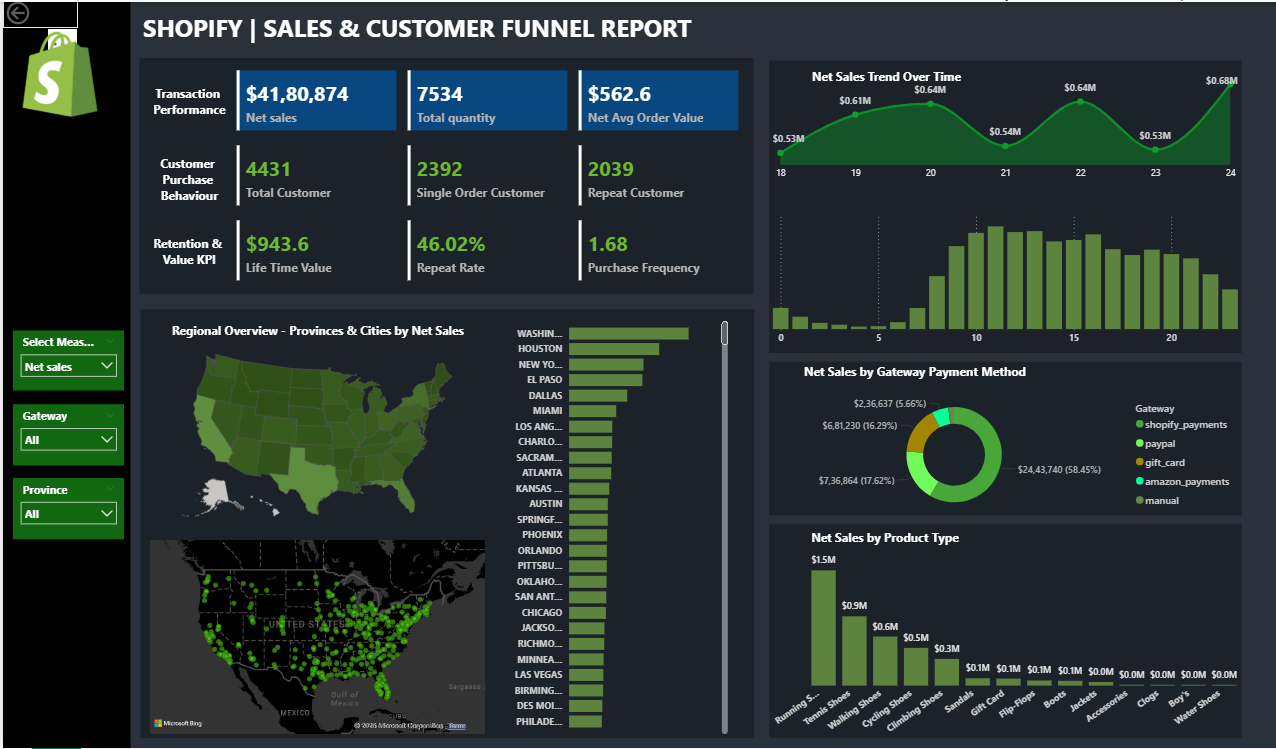

The dashboard page shown, as its layout file describes it:
{"tool":"powerbi","page":{"name":"Page 1","canvas":[1700,1000],"ordinal":0},"visuals":[{"type":"shape","box":[0,0,170,1000.3],"z":0},{"type":"textbox","box":[181,13.4,745.6,53.6],"z":1000},{"type":"shape","box":[181,80.4,819.4,315],"z":2000},{"type":"cardVisual","fields":{"Data":["shopify_sales.Net sales","shopify_sales.Total quantity","shopify_sales.Net Avg Order Value"]},"box":[306.6,92.2,680.3,90.5],"z":3000},{"type":"actionButton","box":[0,0,100,40],"z":4000},{"type":"card","fields":{"Values":["shopify_sales.Transaction perf"]},"box":[189.3,83.8,117.3,107.2],"z":5000},{"type":"cardVisual","fields":{"Data":["shopify_sales.Total Customer","shopify_sales.Single Order Customer","shopify_sales.Repeat Customer"]},"box":[306.6,191.9,680.3,90.5],"z":6000},{"type":"card","fields":{"Values":["shopify_sales.Customer Purchase Behaviour"]},"box":[189.3,184.3,117.3,107.2],"z":7000},{"type":"cardVisual","fields":{"Data":["shopify_sales.Life Time Value","shopify_sales.Repeat Rate","shopify_sales.Purchase Frequency"]},"box":[306.6,291.6,680.3,90.5],"z":8000},{"type":"card","fields":{"Values":["shopify_sales.Retention & Value KPI"]},"box":[189.3,283.2,117.3,107.2],"z":9000},{"type":"shape","box":[183.3,415,818.3,571.7],"z":10000},{"type":"shapeMap","fields":{"Value":["shopify_sales.Net sales"],"Category":["shopify_sales.Billing Address Province"]},"box":[191.7,458.3,455,250],"z":11000},{"type":"slicer","fields":{"Values":["Select Measure .Select Measure "]},"box":[13.3,443.3,148.3,80],"z":12000},{"type":"map","fields":{"Category":["shopify_sales.Location"]},"box":[191.7,718.3,455,268.3],"z":13000},{"type":"card","fields":{"Values":["shopify_sales.Title"]},"box":[175,418.3,490,53.3],"z":15000},{"type":"shape","box":[1021.7,83.3,630,390],"z":16000},{"type":"areaChart","fields":{"Y":["shopify_sales.Net sales"],"Category":["shopify_sales.Invoice Date.Variation.Date Hierarchy.Day"]},"box":[1021.7,91.7,630,160],"z":17000},{"type":"clusteredColumnChart","fields":{"Y":["shopify_sales.Net sales"],"Category":["shopify_sales.Hour"]},"box":[1021.7,276.7,630,195],"z":18000},{"type":"card","fields":{"Values":["shopify_sales.Trend Title"]},"box":[1021.7,80,313.3,53.3],"z":19000},{"type":"shape","box":[1021.7,485,630,205],"z":20000},{"type":"donutChart","fields":{"Y":["shopify_sales.Net sales"],"Category":["shopify_sales.Gateway"]},"box":[1021.7,523.3,628.3,171.7],"z":21000},{"type":"card","fields":{"Values":["shopify_sales.Gateway Title"]},"box":[1021.7,473.3,393.3,53.3],"z":22000},{"type":"shape","box":[1021.7,701.7,630,285],"z":23000},{"type":"columnChart","fields":{"Y":["shopify_sales.Net sales"],"Category":["shopify_sales.Product Type"]},"box":[1021.7,721.7,645,278.3],"z":24000},{"type":"card","fields":{"Values":["shopify_sales.Product Title"]},"box":[1021.7,695,313.3,53.3],"z":25000},{"type":"image","box":[13.3,40,125,123.3],"z":26000},{"type":"slicer","fields":{"Values":["shopify_sales.Gateway"]},"box":[13.3,540.8,148.3,81.7],"z":27000},{"type":"slicer","title":"Province","fields":{"Values":["shopify_sales.Billing Address Province"]},"box":[13.3,640,148.3,81.7],"z":28000},{"type":"clusteredBarChart","fields":{"Category":["shopify_sales (2).CITY"],"Y":["shopify_sales.Net sales"]},"box":[665,418.3,306.7,568.3],"z":28001}]}

Visuals, with their boxes in screenshot pixels (x1, y1, x2, y2), scaled from the page's 1700x1000 canvas onto the 1276x749 screenshot:
shape: select_region(0, 0, 128, 748)
textbox: select_region(136, 10, 695, 50)
shape: select_region(136, 60, 751, 296)
cardVisual - shopify_sales.Net sales x shopify_sales.Total quantity: select_region(230, 69, 741, 137)
actionButton: select_region(0, 0, 75, 30)
card - shopify_sales.Transaction perf: select_region(142, 63, 230, 143)
cardVisual - shopify_sales.Total Customer x shopify_sales.Single Order Customer: select_region(230, 144, 741, 212)
card - shopify_sales.Customer Purchase Behaviour: select_region(142, 138, 230, 218)
cardVisual - shopify_sales.Life Time Value x shopify_sales.Repeat Rate: select_region(230, 218, 741, 286)
card - shopify_sales.Retention & Value KPI: select_region(142, 212, 230, 292)
shape: select_region(138, 311, 752, 739)
shapeMap - shopify_sales.Net sales x shopify_sales.Billing Address Province: select_region(144, 343, 485, 531)
slicer - Select Measure .Select Measure : select_region(10, 332, 121, 392)
map - shopify_sales.Location: select_region(144, 538, 485, 739)
card - shopify_sales.Title: select_region(131, 313, 499, 353)
shape: select_region(767, 62, 1240, 355)
areaChart - shopify_sales.Net sales x shopify_sales.Invoice Date.Variation.Date Hierarchy.Day: select_region(767, 69, 1240, 189)
clusteredColumnChart - shopify_sales.Net sales x shopify_sales.Hour: select_region(767, 207, 1240, 353)
card - shopify_sales.Trend Title: select_region(767, 60, 1002, 100)
shape: select_region(767, 363, 1240, 517)
donutChart - shopify_sales.Net sales x shopify_sales.Gateway: select_region(767, 392, 1238, 521)
card - shopify_sales.Gateway Title: select_region(767, 355, 1062, 394)
shape: select_region(767, 526, 1240, 739)
columnChart - shopify_sales.Net sales x shopify_sales.Product Type: select_region(767, 541, 1251, 748)
card - shopify_sales.Product Title: select_region(767, 521, 1002, 560)
image: select_region(10, 30, 104, 122)
slicer - shopify_sales.Gateway: select_region(10, 405, 121, 466)
"Province" slicer: select_region(10, 479, 121, 541)
clusteredBarChart - shopify_sales (2).CITY x shopify_sales.Net sales: select_region(499, 313, 729, 739)
